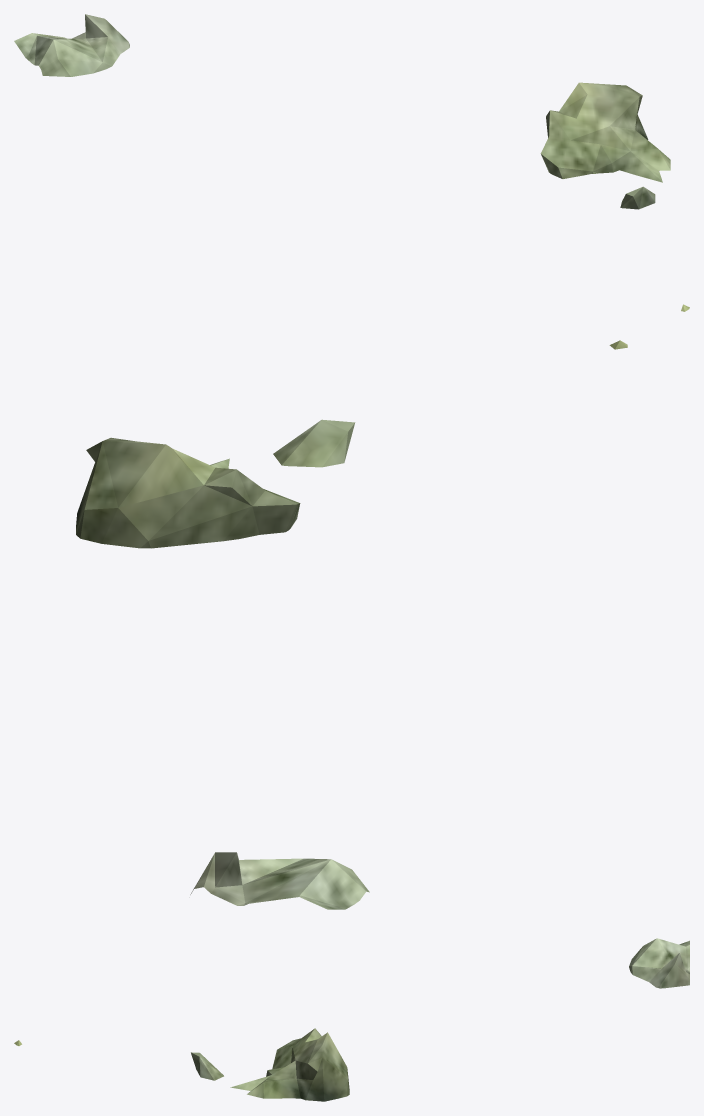
The picture shows the model from 3 angles, top to bottom: view 1: azimuth 30°, elevation 25°; view 2: azimuth 150°, elevation 25°; view 3: azimuth 270°, elevation 25°; orthographic projection. The views are drawn at different scales.
Bounding box in the file's own units: 6.08 × 0.8857 × 11.56.
1 material, 1 textured.
